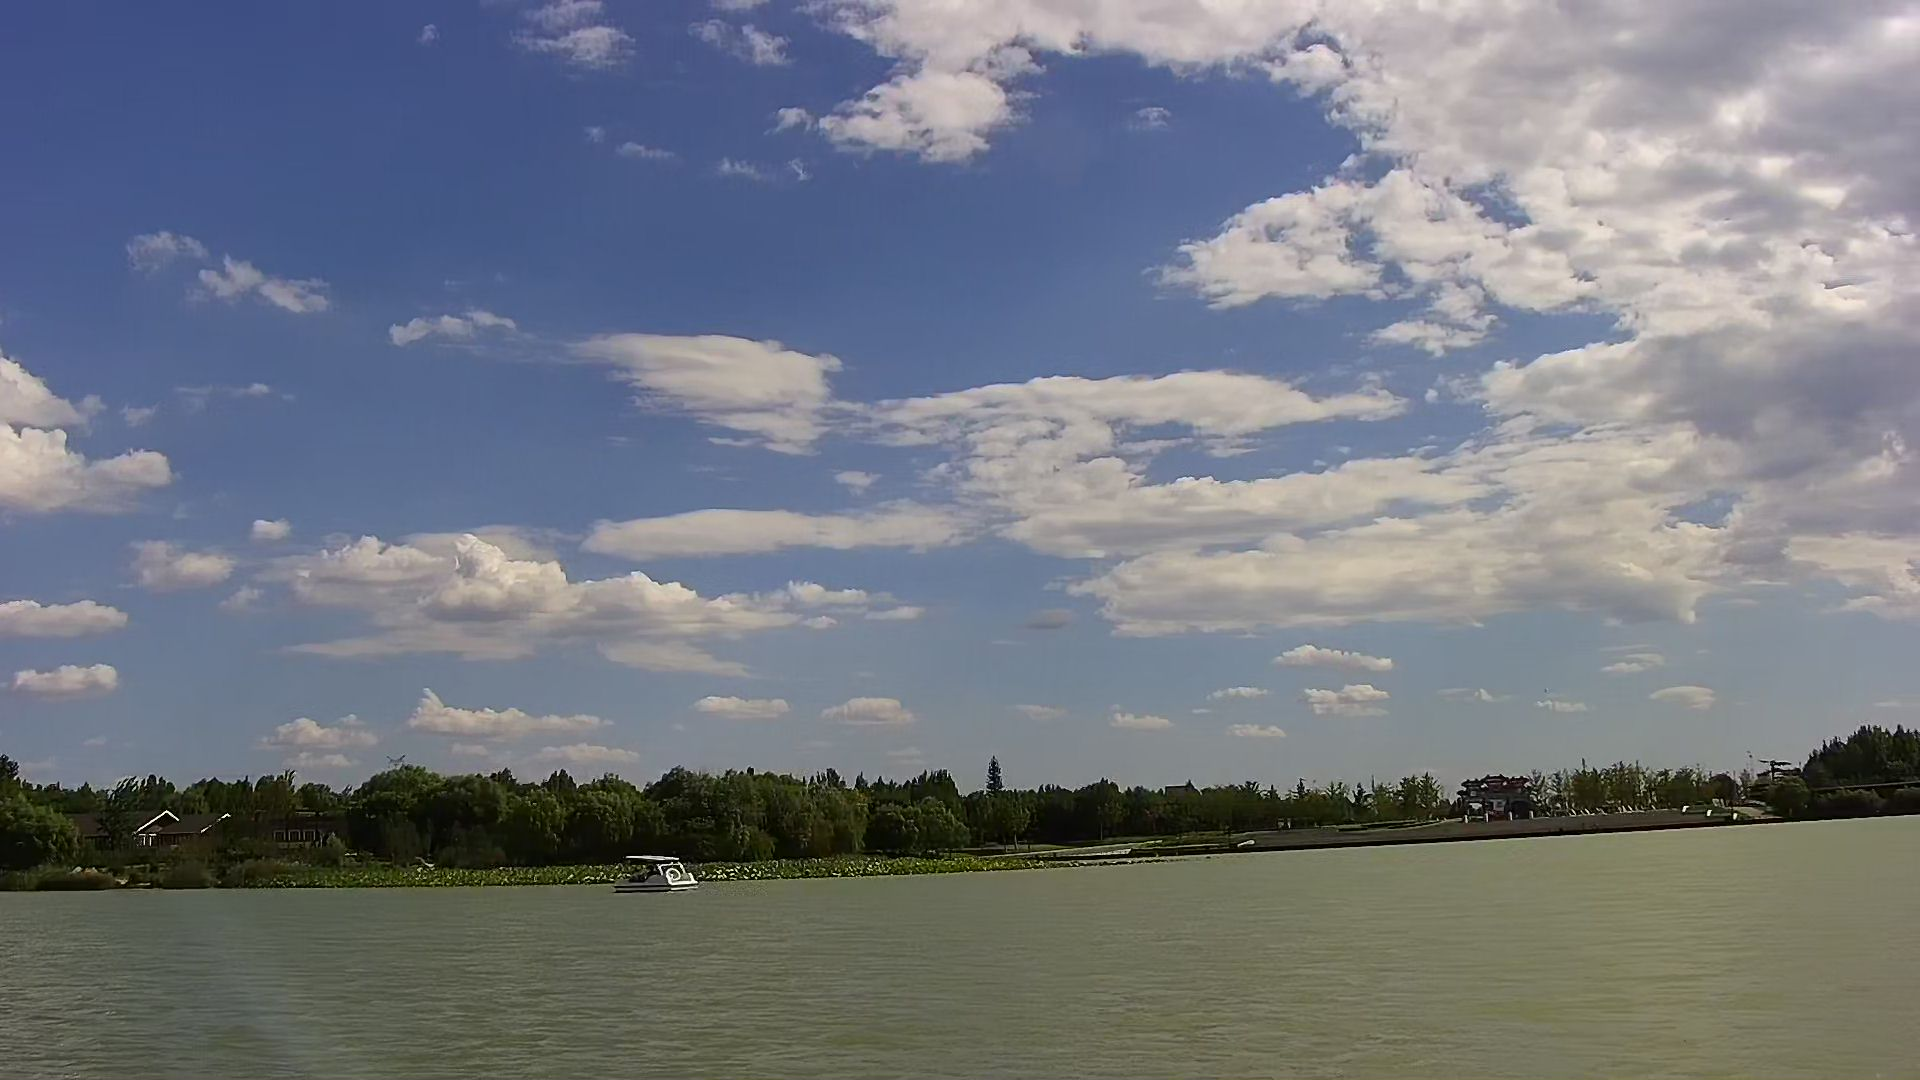boat: (605, 851, 699, 897)
